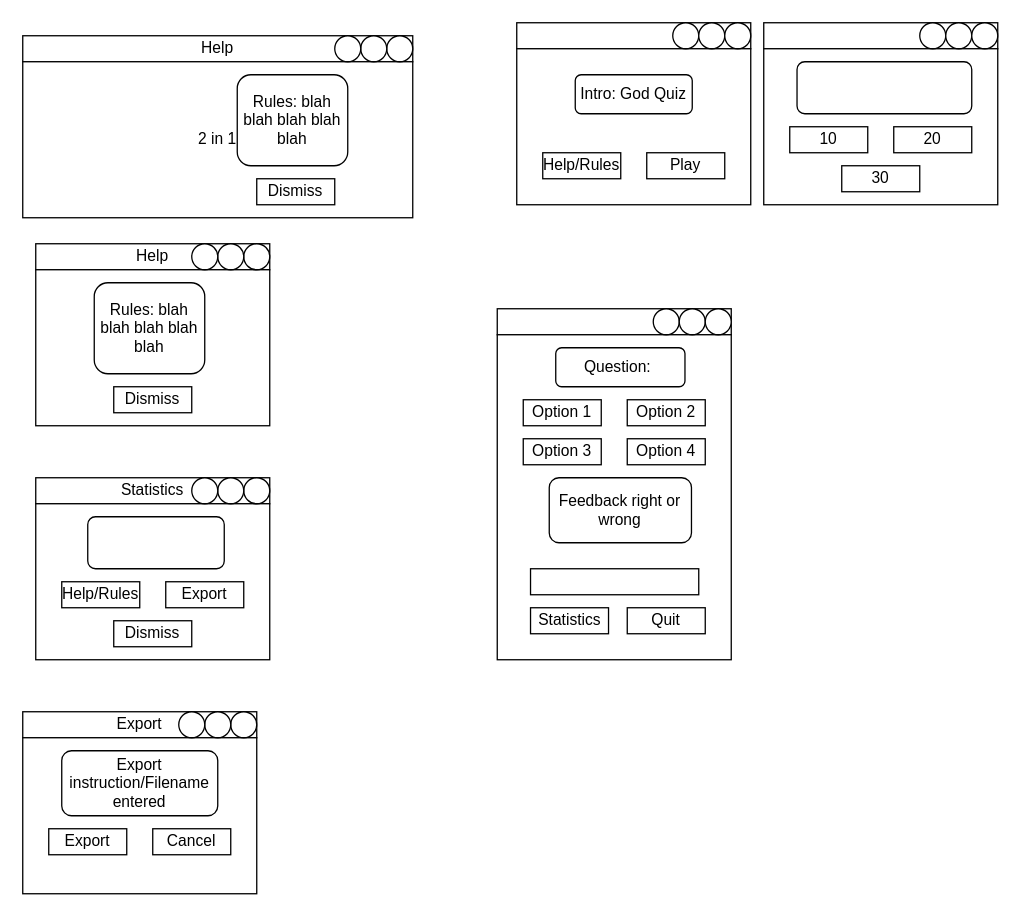
This 1020x916 diagram has some shape labels left out. The centre of each missing label's shape, as x and y in pixels:
"Choose # of questions..." goes at (x=884, y=87).
"Next" goes at (x=614, y=581).
"Statistics: fractions right and wrong" goes at (x=155, y=542).
